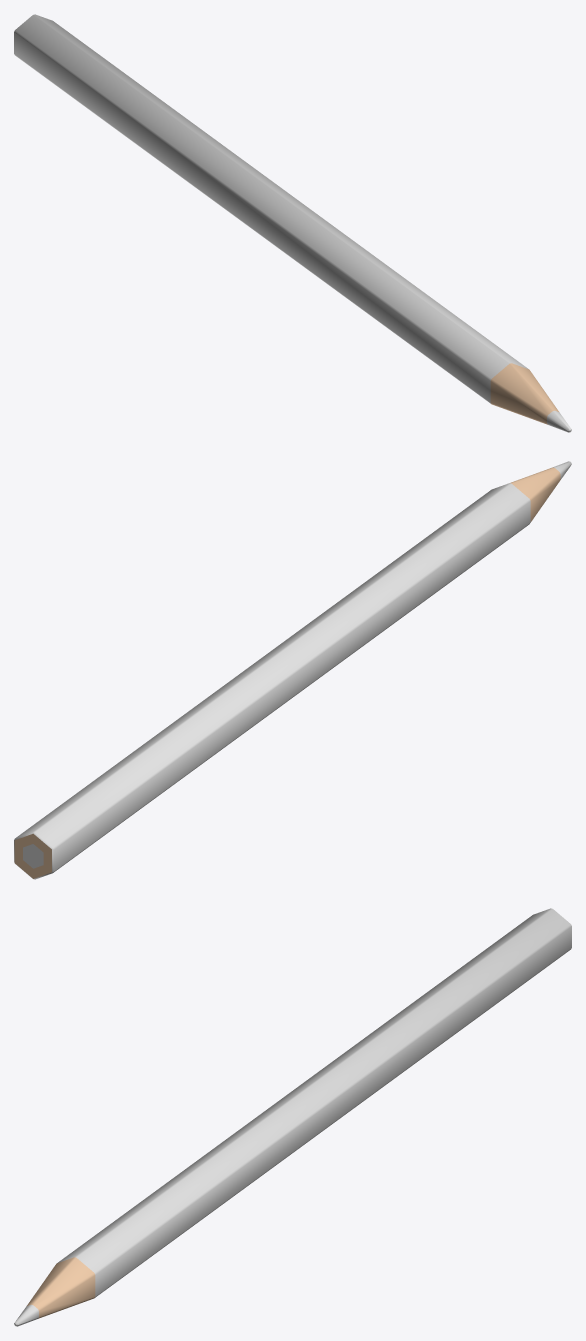
The model's file is DunnerStift.fbx.
The picture shows the model from 3 angles, top to bottom: view 1: azimuth 30°, elevation 25°; view 2: azimuth 150°, elevation 25°; view 3: azimuth 330°, elevation 25°; orthographic projection.
Parts seen in each view (by area): view 1: dünner Stift; view 2: dünner Stift; view 3: dünner Stift.
Boxes of the visible parts, x1,y1,x2,y2 form: dünner Stift: (14,14,571,432); dünner Stift: (14,461,571,879); dünner Stift: (14,908,571,1326).
Bounding box in the file's own units: 0.8927 × 1 × 20.71.
